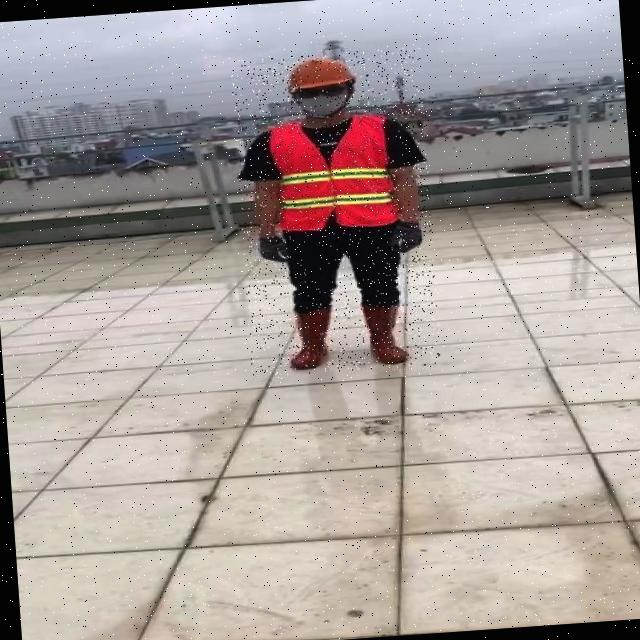boots: (358, 298, 410, 366), (284, 306, 338, 370)
helmet: (278, 52, 356, 92)
vest: (265, 113, 403, 235)
